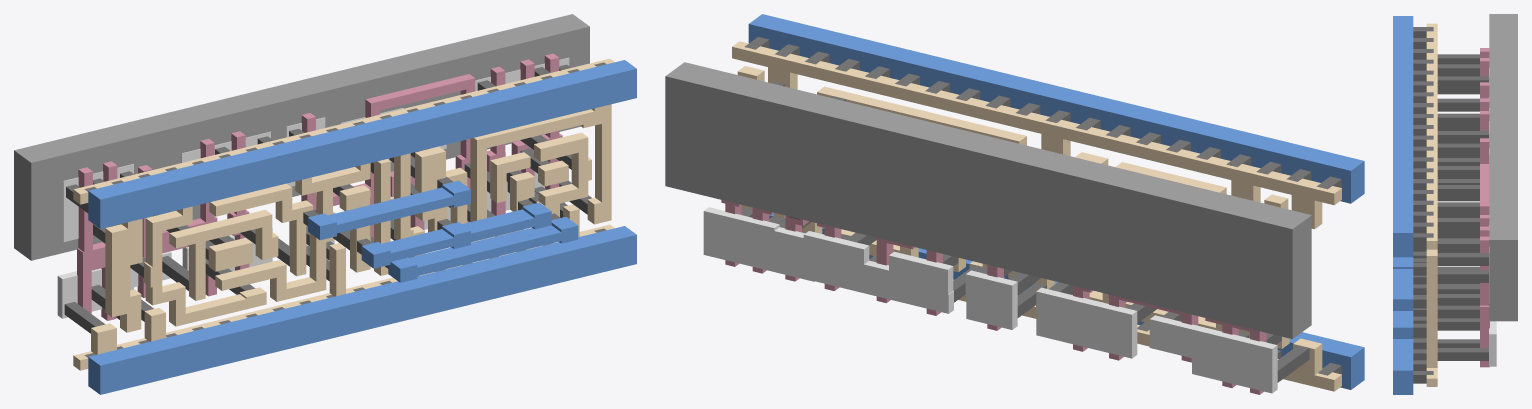
Rendered from sky130_fd_sc_hd__xor3_2.gds.gltf.
The picture shows the model from 3 angles, left to right: view 1: azimuth 30°, elevation 25°; view 2: azimuth 150°, elevation 25°; view 3: azimuth 270°, elevation 25°; orthographic projection. The views are drawn at different scales.
Visible parts, largest first — view 1: sky130_fd_sc_hd__xor3_2_met1, sky130_fd_sc_hd__xor3_2_li1, sky130_fd_sc_hd__xor3_2_nwell, sky130_fd_sc_hd__xor3_2_poly, sky130_fd_sc_hd__xor3_2_licon, sky130_fd_sc_hd__xor3_2_diff, sky130_fd_sc_hd__xor3_2_mcon; view 2: sky130_fd_sc_hd__xor3_2_nwell, sky130_fd_sc_hd__xor3_2_diff, sky130_fd_sc_hd__xor3_2_li1, sky130_fd_sc_hd__xor3_2_met1, sky130_fd_sc_hd__xor3_2_mcon, sky130_fd_sc_hd__xor3_2_poly, sky130_fd_sc_hd__xor3_2_licon; view 3: sky130_fd_sc_hd__xor3_2_licon, sky130_fd_sc_hd__xor3_2_nwell, sky130_fd_sc_hd__xor3_2_met1, sky130_fd_sc_hd__xor3_2_mcon, sky130_fd_sc_hd__xor3_2_li1, sky130_fd_sc_hd__xor3_2_poly, sky130_fd_sc_hd__xor3_2_diff.
Boxes of the visible parts, x1,y1,x2,y2 form: sky130_fd_sc_hd__xor3_2_met1: (88, 60, 636, 394); sky130_fd_sc_hd__xor3_2_li1: (73, 58, 614, 370); sky130_fd_sc_hd__xor3_2_nwell: (14, 14, 589, 260); sky130_fd_sc_hd__xor3_2_poly: (77, 53, 562, 320); sky130_fd_sc_hd__xor3_2_licon: (64, 64, 591, 333); sky130_fd_sc_hd__xor3_2_diff: (57, 57, 569, 318); sky130_fd_sc_hd__xor3_2_mcon: (84, 62, 606, 357); sky130_fd_sc_hd__xor3_2_nwell: (665, 62, 1311, 338); sky130_fd_sc_hd__xor3_2_diff: (703, 207, 1277, 393); sky130_fd_sc_hd__xor3_2_li1: (732, 41, 1341, 391); sky130_fd_sc_hd__xor3_2_met1: (748, 14, 1364, 389); sky130_fd_sc_hd__xor3_2_mcon: (744, 37, 1341, 375); sky130_fd_sc_hd__xor3_2_poly: (721, 200, 1266, 394); sky130_fd_sc_hd__xor3_2_licon: (741, 81, 1309, 382); sky130_fd_sc_hd__xor3_2_licon: (1437, 54, 1488, 360); sky130_fd_sc_hd__xor3_2_nwell: (1489, 14, 1517, 321); sky130_fd_sc_hd__xor3_2_met1: (1393, 16, 1413, 394); sky130_fd_sc_hd__xor3_2_mcon: (1413, 27, 1433, 383); sky130_fd_sc_hd__xor3_2_li1: (1426, 23, 1437, 386); sky130_fd_sc_hd__xor3_2_poly: (1480, 48, 1489, 367); sky130_fd_sc_hd__xor3_2_diff: (1489, 68, 1496, 366).
Size of the model in its own units: 9.58 by 3.2 by 2.24.
